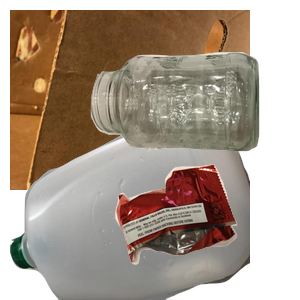cardboard: (10, 10, 250, 190)
glass: (88, 50, 300, 194)
plastic: (10, 120, 250, 300)
trash: (113, 162, 300, 300)
